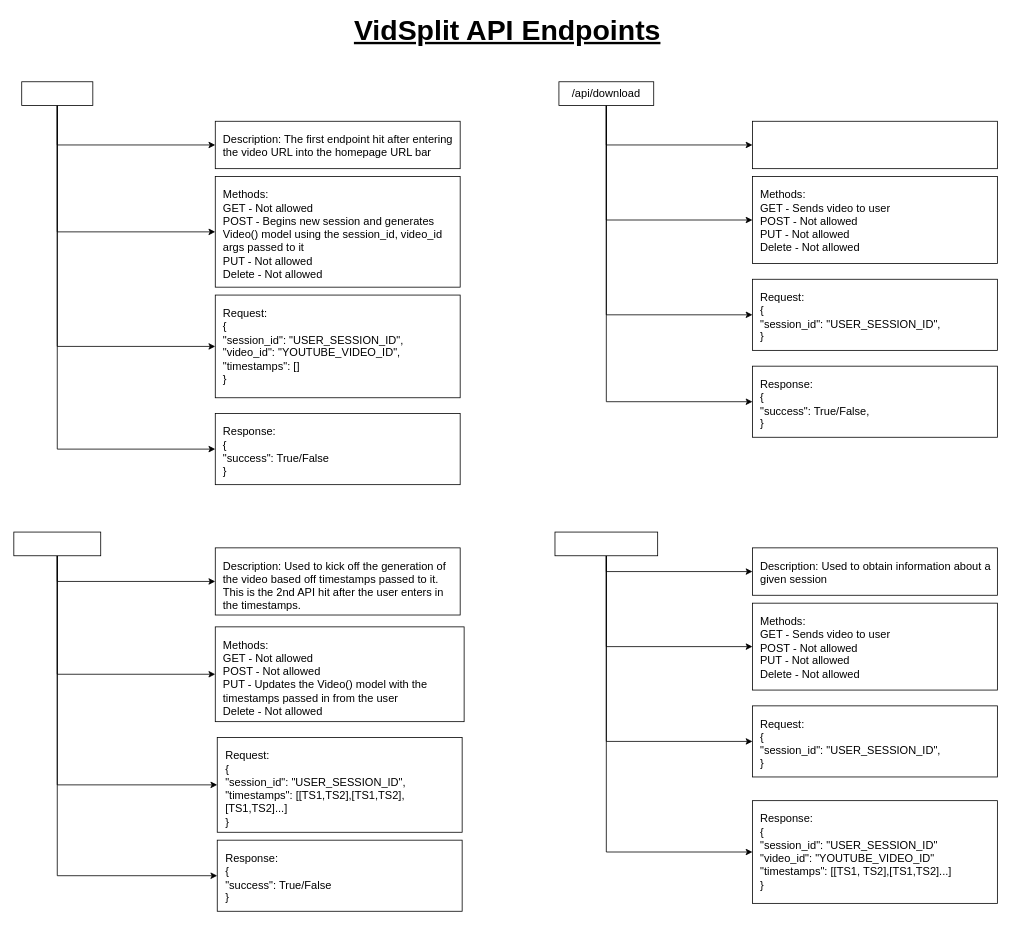
Image size: 1011x925. Some labels were removed from this diagram. Each missing label, with the centre of its shape:
"/api/generate" goes at point (57, 543).
"/api/initialize" goes at point (57, 93).
"/api/session" goes at point (606, 543).
"Description: Downloads the video to the user's computer" goes at point (874, 144).
